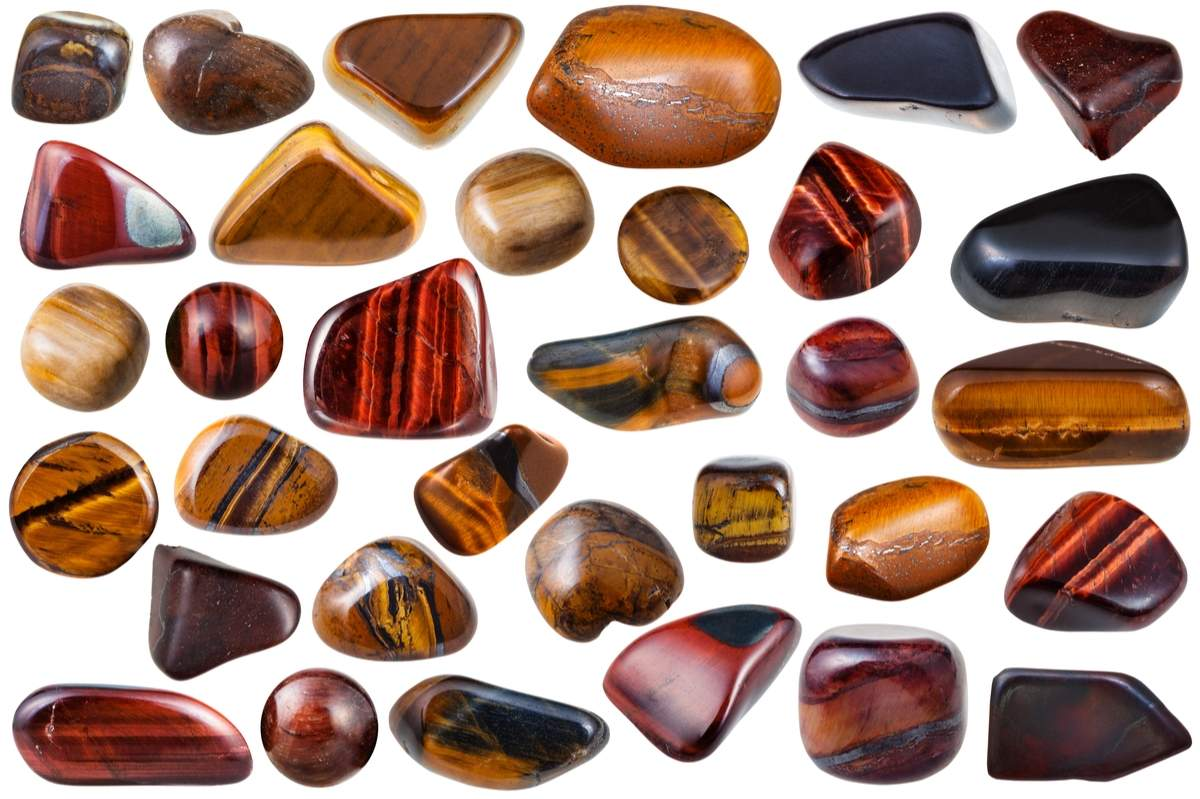Tigers_Eye: (526, 3, 782, 171), (799, 2, 1017, 142), (385, 669, 615, 796), (7, 680, 259, 789), (983, 664, 1200, 787), (7, 139, 205, 271), (169, 413, 342, 539), (785, 314, 930, 443), (689, 449, 797, 568)
